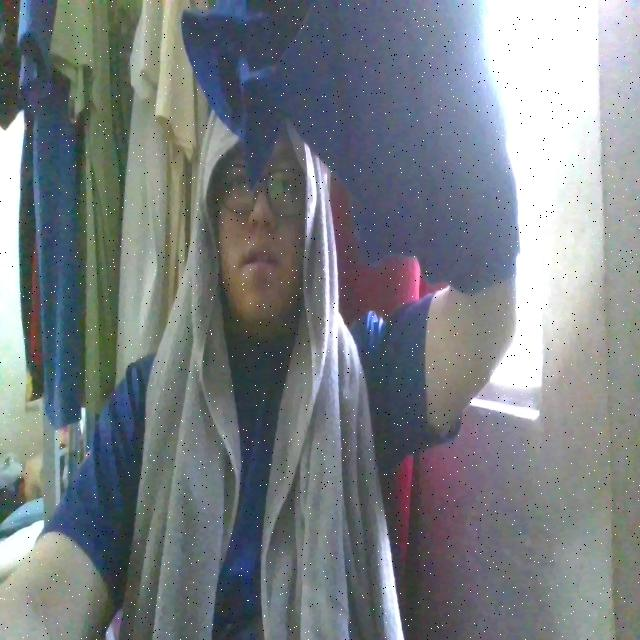person_without_labcoat: (0, 0, 518, 639)
